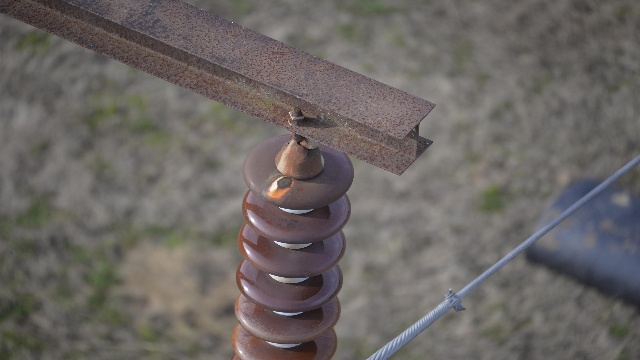insulator_unspecified: (232, 134, 352, 358)
pollution_flashover_local: (259, 172, 296, 203)
